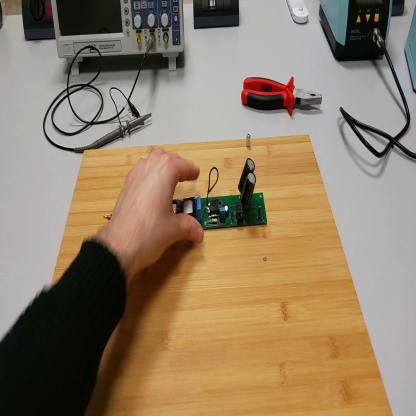hand: (109, 149, 203, 274)
high voltage board: (103, 159, 268, 232)
oscilloscope: (50, 2, 186, 75)
oscilloscope probe tip: (75, 113, 153, 158)
pliers: (241, 75, 324, 119)
socket: (21, 2, 56, 43), (394, 2, 409, 16)
welder base: (406, 4, 416, 94)
welder station: (321, 1, 394, 62)
working area: (56, 136, 394, 415)
